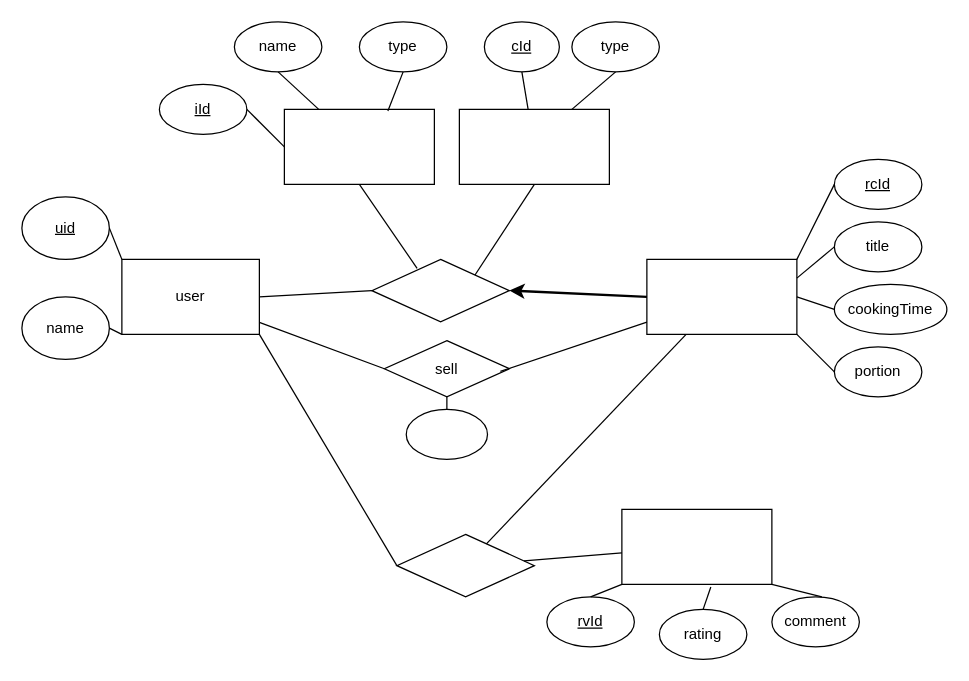
This 969x681 diagram has some shape labels left out. Here are the shapes that lost their labels. From the top down, the centre of each, then its label:
point (358, 146): ingredient
point (533, 146): catergory
point (440, 290): create
point (721, 296): recipes
point (446, 433): price
point (465, 565): rate
point (696, 546): review
